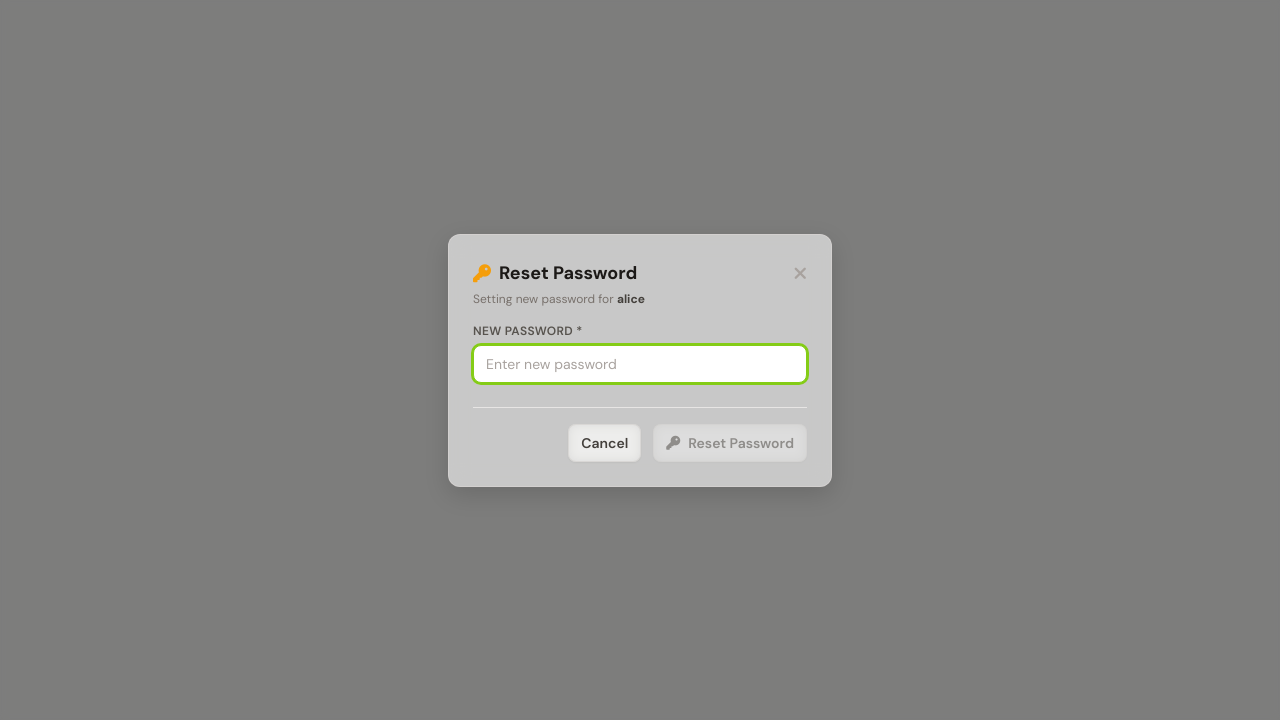
Test case: UserPasswordModal › falls back to a generic message when the rejection is not an Error
This screenshot has width=1280, height=720.
Type "pw" into the password field with placeholder "Enter new password" at (640, 364), box [473, 344, 807, 382]
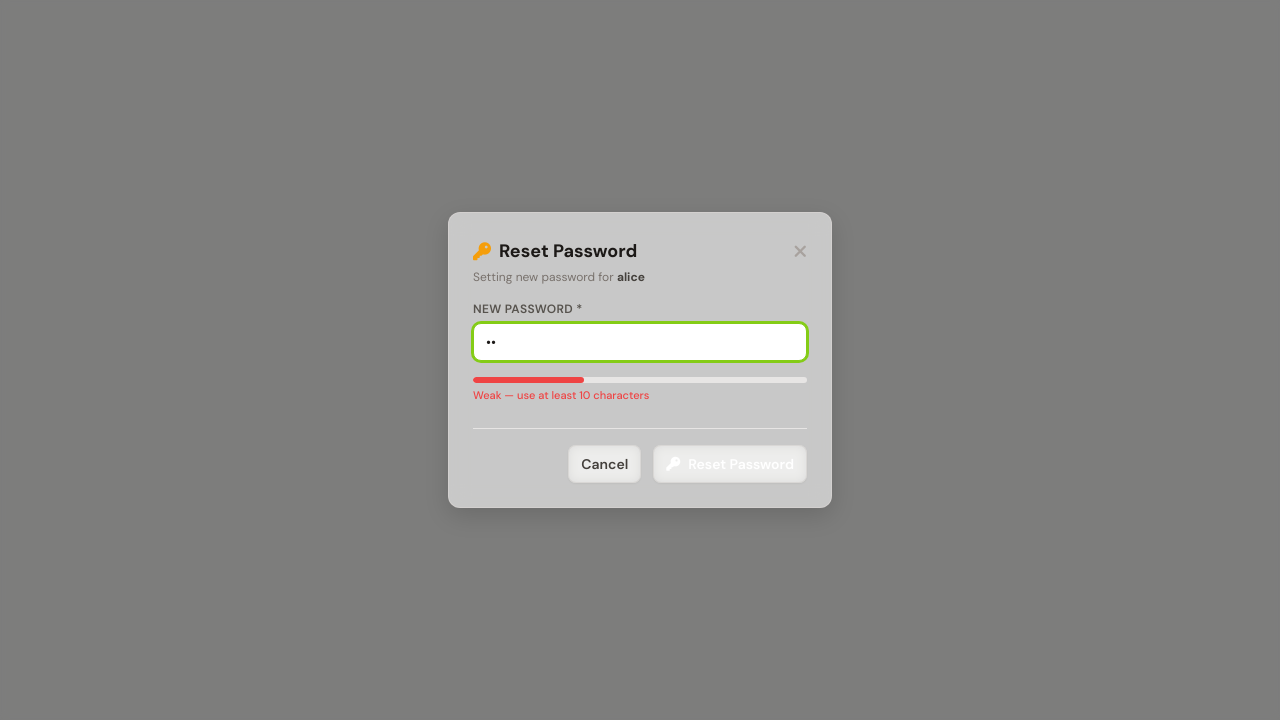
Click the button "Reset Password" at (730, 464), box [653, 445, 807, 483]
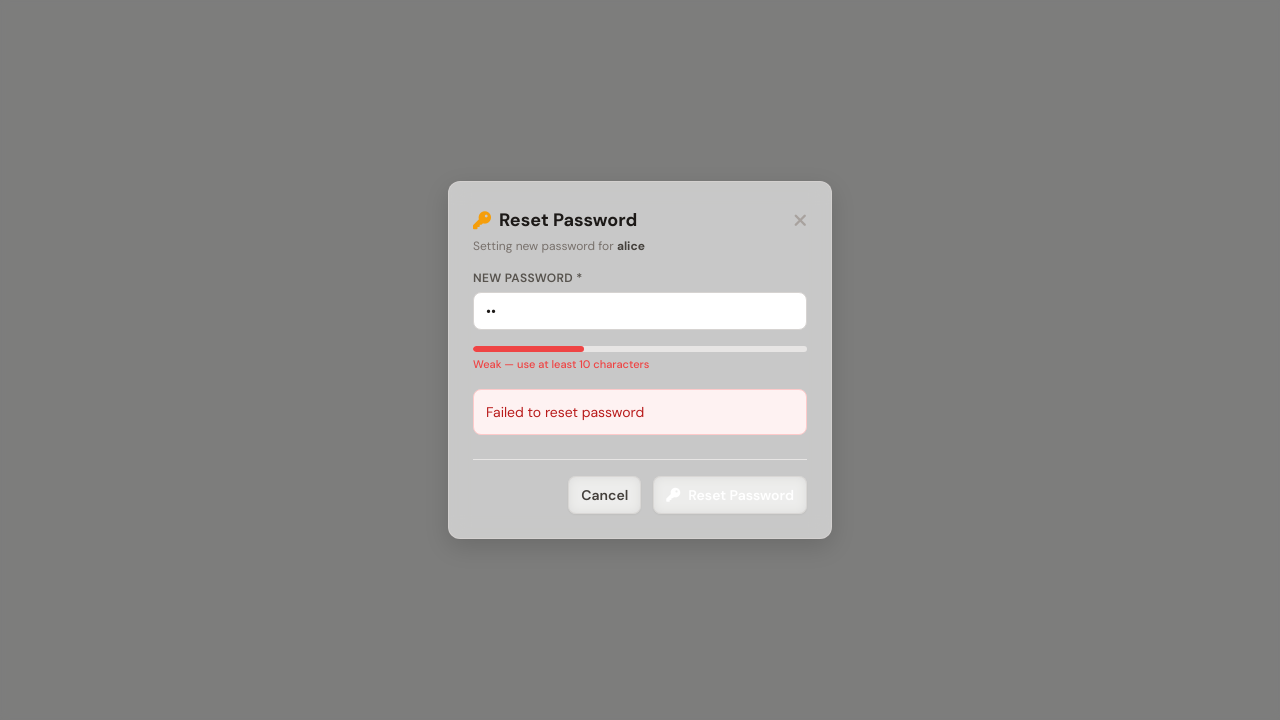
Now the text "Failed to reset password" is shown, box [473, 389, 807, 435]
